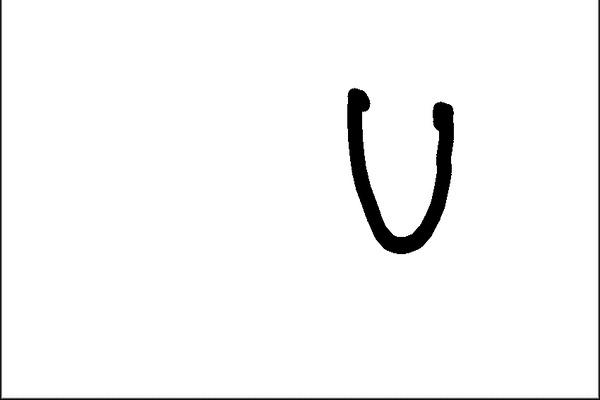U: (327, 73, 466, 263)
